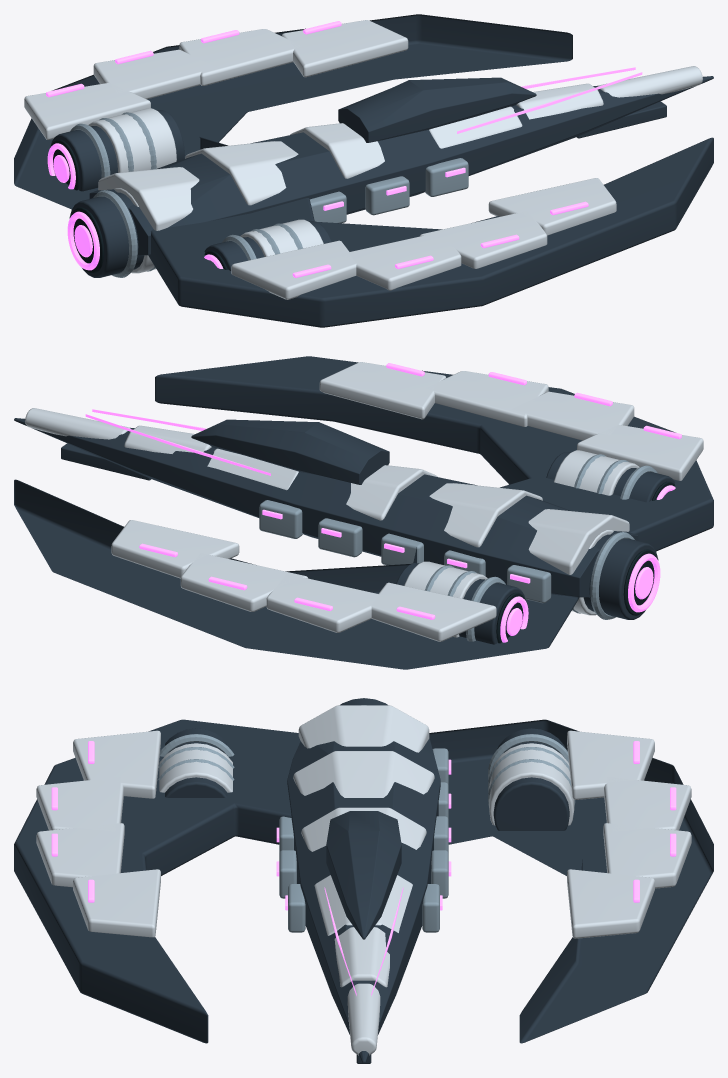
The model's file is ship-07.glb.
3 renders of one model, top to bottom at view 1: azimuth 30°, elevation 25°; view 2: azimuth 150°, elevation 25°; view 3: azimuth 270°, elevation 25°, orthographic. The views are drawn at different scales.
Parts seen in each view (by area): view 1: Graphite frame, Ceramic titanium, Machined silver, Ion violet, Carbon insets; view 2: Graphite frame, Ceramic titanium, Machined silver, Ion violet, Carbon insets; view 3: Graphite frame, Ceramic titanium, Machined silver, Ion violet.
Part boxes in pixels (box(x1,y1,x2,y2)): Graphite frame: box(14, 14, 713, 327); Ceramic titanium: box(24, 20, 702, 299); Machined silver: box(70, 112, 468, 277); Ion violet: box(46, 21, 642, 277); Carbon insets: box(50, 139, 227, 273); Graphite frame: box(14, 356, 713, 669); Ceramic titanium: box(25, 362, 703, 641); Machined silver: box(259, 454, 657, 641); Ion violet: box(85, 363, 681, 642); Carbon insets: box(496, 481, 675, 643); Graphite frame: box(14, 698, 713, 1063); Ceramic titanium: box(36, 705, 691, 1055); Machined silver: box(158, 705, 575, 932); Ion violet: box(51, 741, 676, 995).
Size of the model in its own units: 6 by 1.05 by 5.21.
